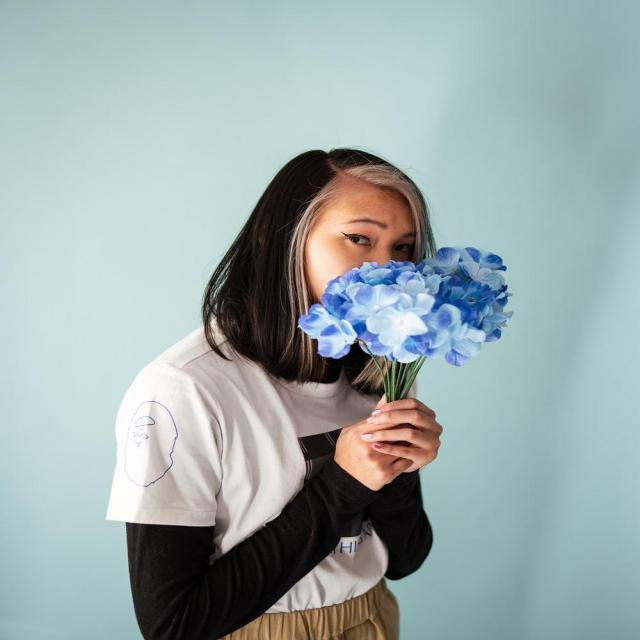organic waste: (361, 264, 442, 313), (427, 306, 482, 361), (359, 304, 433, 342), (346, 283, 408, 324), (451, 260, 510, 298), (451, 244, 517, 275), (312, 316, 358, 359), (473, 297, 516, 334)
